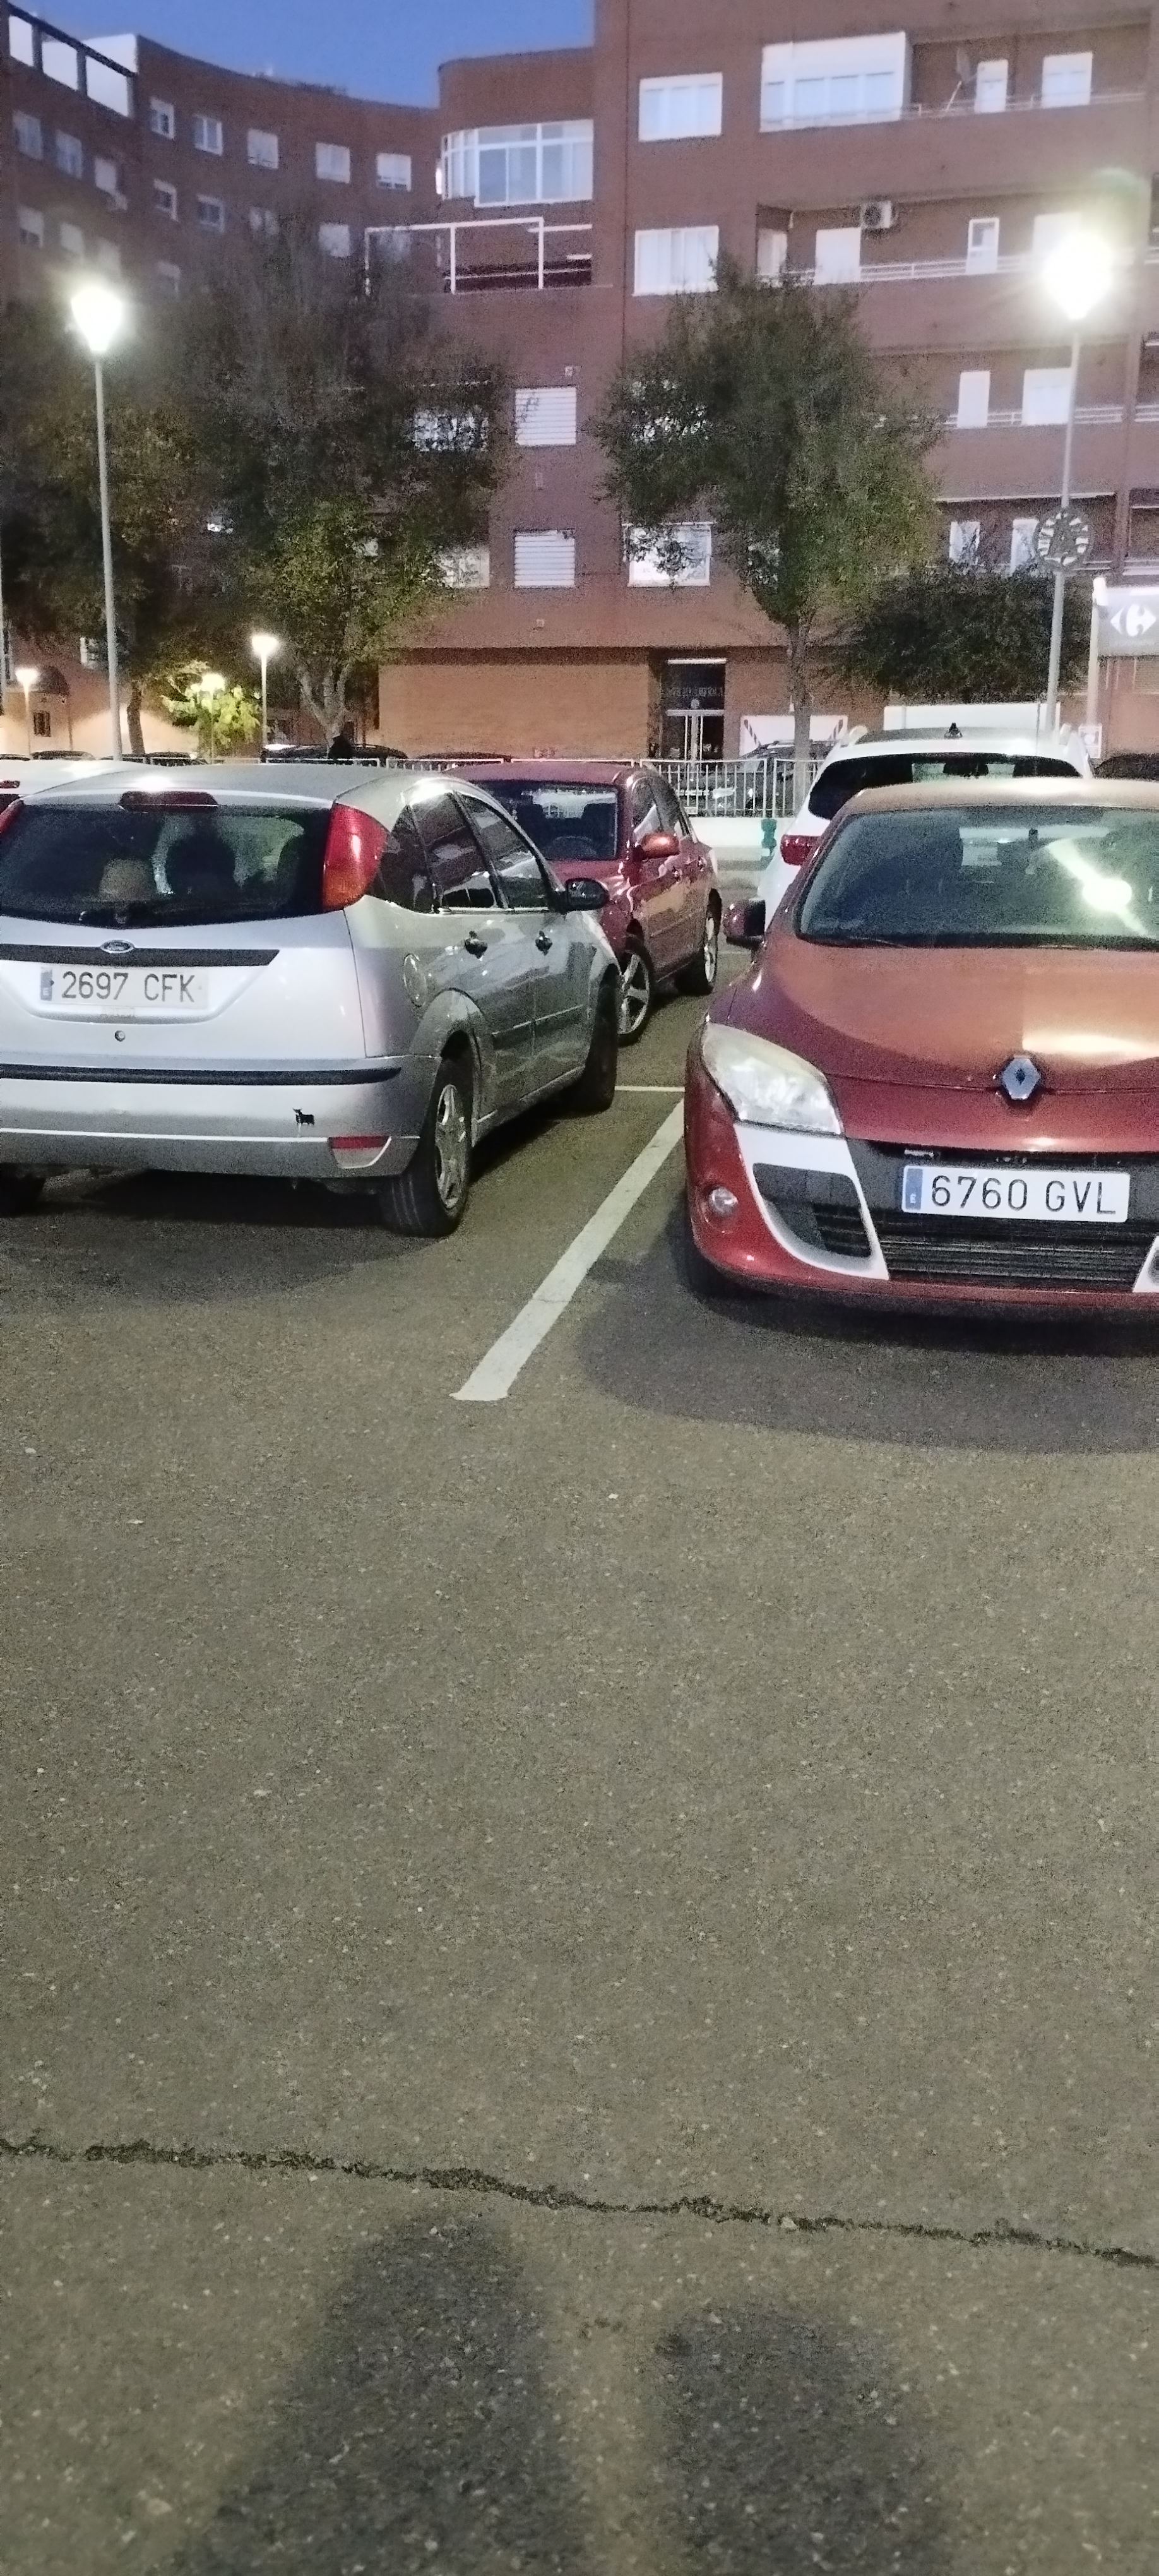Car: (0, 763, 617, 1238), (684, 778, 1158, 1332)
Plate: (902, 1163, 1129, 1214), (42, 964, 206, 1005)
